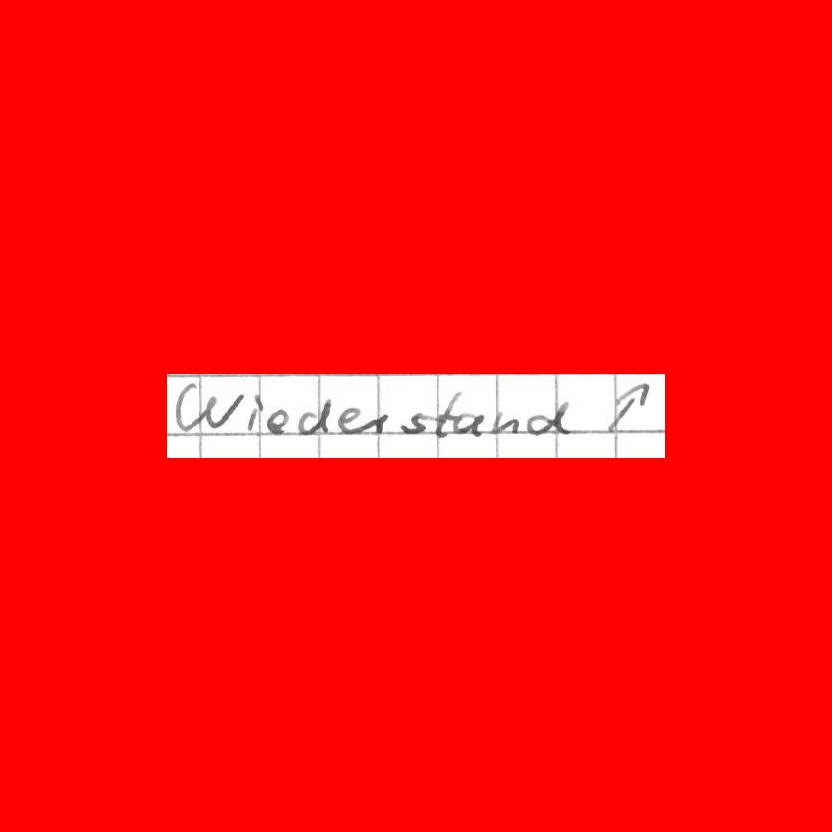Char: (177, 387, 239, 431), (604, 381, 651, 435), (295, 394, 334, 435), (528, 400, 570, 438), (433, 387, 460, 438), (398, 410, 429, 435), (487, 413, 519, 435), (245, 393, 262, 433), (361, 410, 389, 433), (460, 412, 486, 436), (267, 408, 290, 434), (338, 406, 361, 431)
